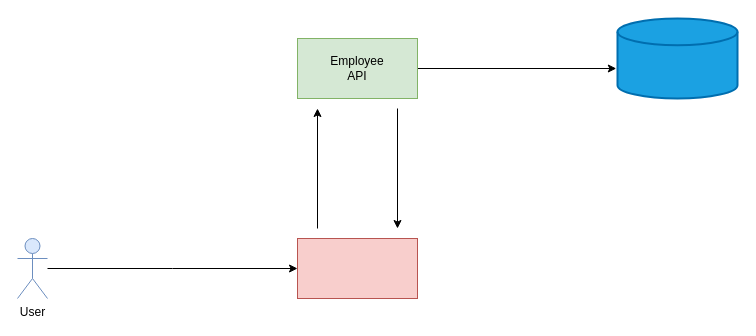
Some shapes in this 756 by 336 pixel diagram are drawn without their labels. Each missing label, with the centre of its shape:
Database: the point at 677,58
Rest Client App: the point at 357,268
